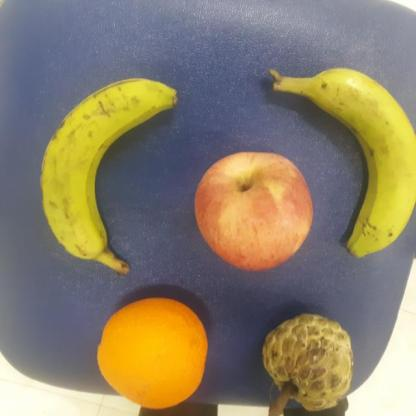annona: (255, 315, 355, 416)
apple: (191, 149, 315, 271)
banana: (35, 77, 182, 264), (302, 66, 416, 262)
orange: (95, 297, 209, 410)
